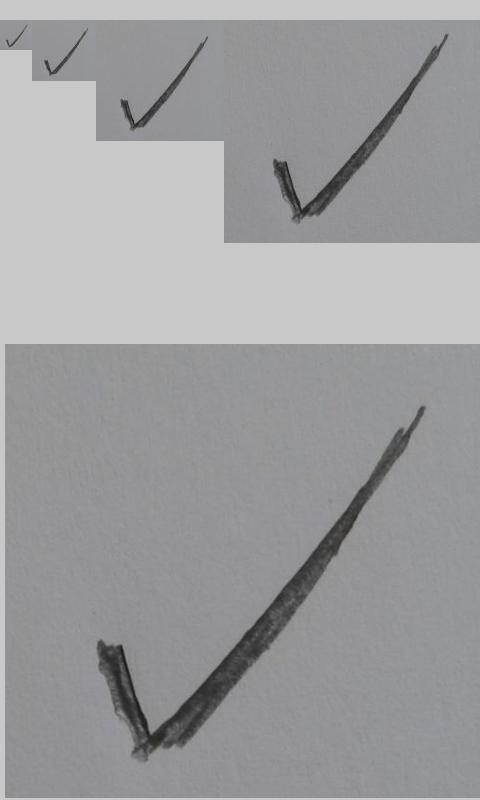check_box: (98, 409, 422, 757), (272, 36, 447, 218), (120, 38, 207, 130), (44, 29, 87, 75), (5, 25, 27, 47)
